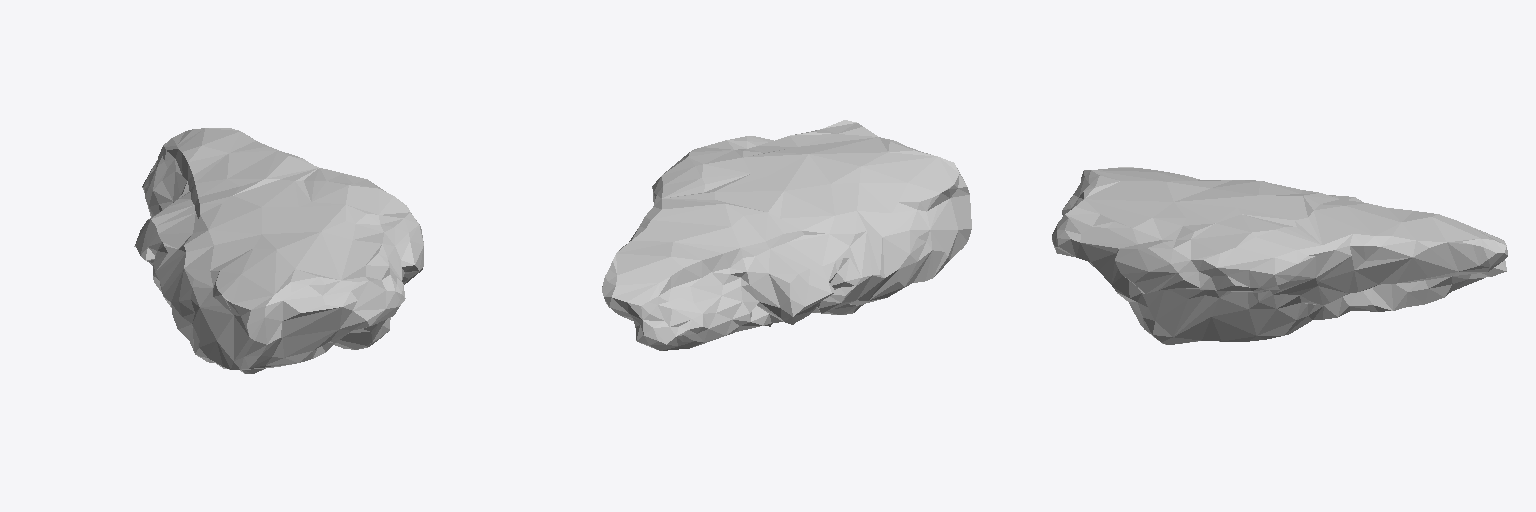
File: nat-rock-scaled2.obj
3 renders of one model, left to right at view 1: azimuth 30°, elevation 25°; view 2: azimuth 150°, elevation 25°; view 3: azimuth 270°, elevation 25°, orthographic.
Parts seen in each view (by area): view 1: nat-rock.001; view 2: nat-rock.001; view 3: nat-rock.001.
Part boxes in pixels (x1,y1,x2,y2): nat-rock.001: (134, 128, 423, 373); nat-rock.001: (602, 120, 971, 350); nat-rock.001: (1052, 167, 1507, 344).
Size of the model in its own units: 3.3 by 1.65 by 5.53.